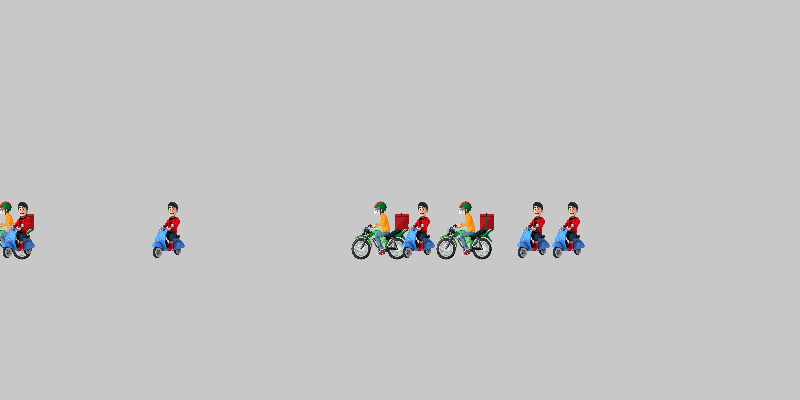helmet: (350, 200, 410, 260), (435, 200, 495, 260), (0, 200, 35, 260)
no_helmet: (140, 200, 200, 260), (390, 200, 450, 260), (505, 200, 565, 260), (540, 200, 600, 260), (0, 200, 50, 260)
